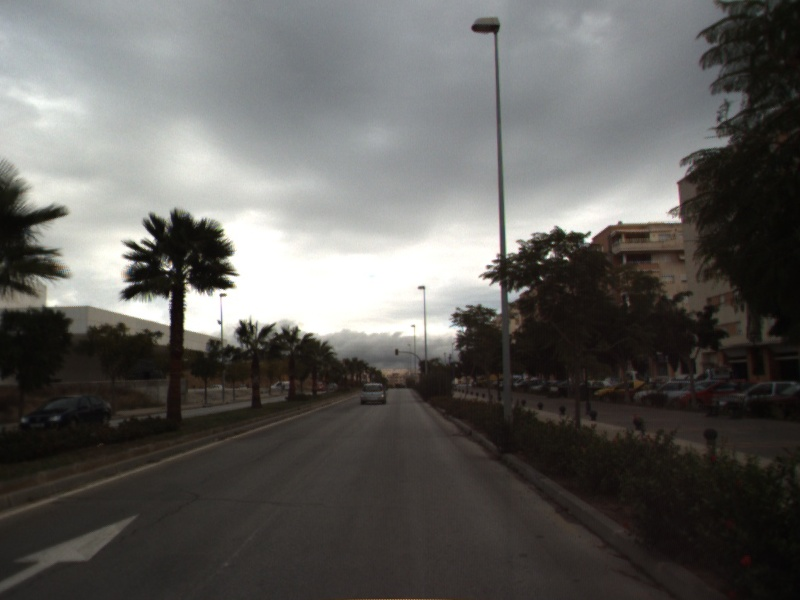STRAIGHT: (1, 511, 142, 594)
